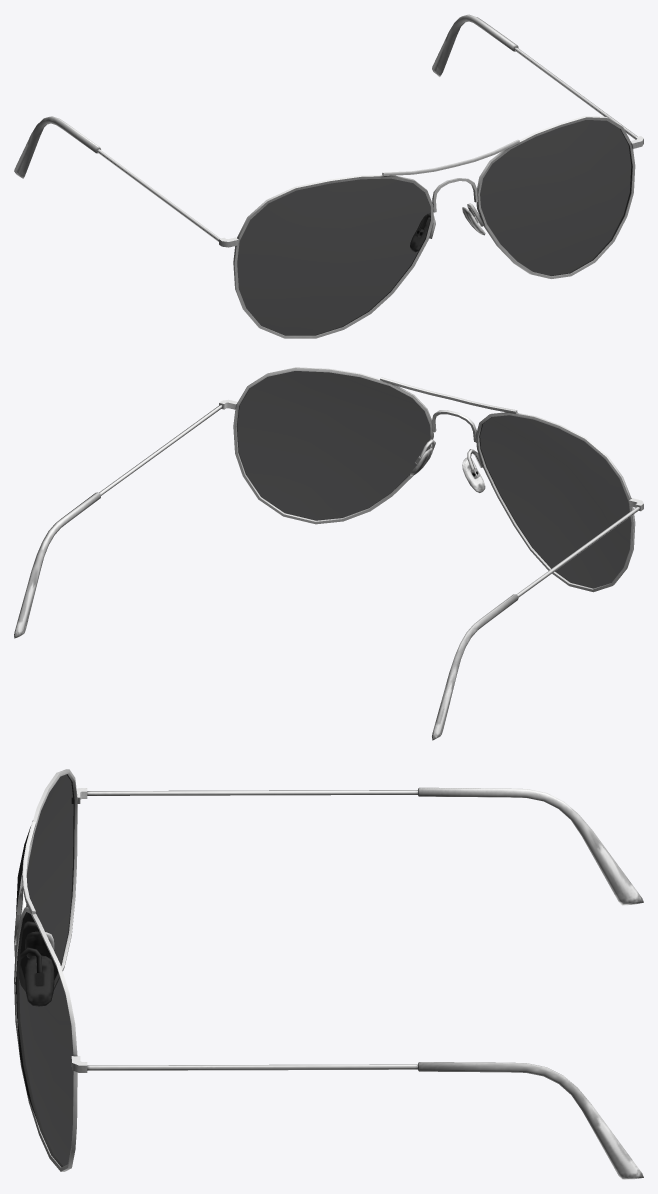
File: glasses_sun.gltf
The picture shows the model from 3 angles, top to bottom: view 1: azimuth 30°, elevation 25°; view 2: azimuth 150°, elevation 25°; view 3: azimuth 270°, elevation 25°; orthographic projection. The views are drawn at different scales.
Parts seen in each view (by area): view 1: glasses_sun; view 2: glasses_sun; view 3: glasses_sun.
Boxes of the visible parts, x1,y1,x2,y2 form: glasses_sun: [14, 14, 643, 338]; glasses_sun: [14, 367, 643, 740]; glasses_sun: [14, 769, 643, 1179].
Bounding box in the file's own units: 1 × 0.3524 × 0.9541.
2 materials, 1 textured.
